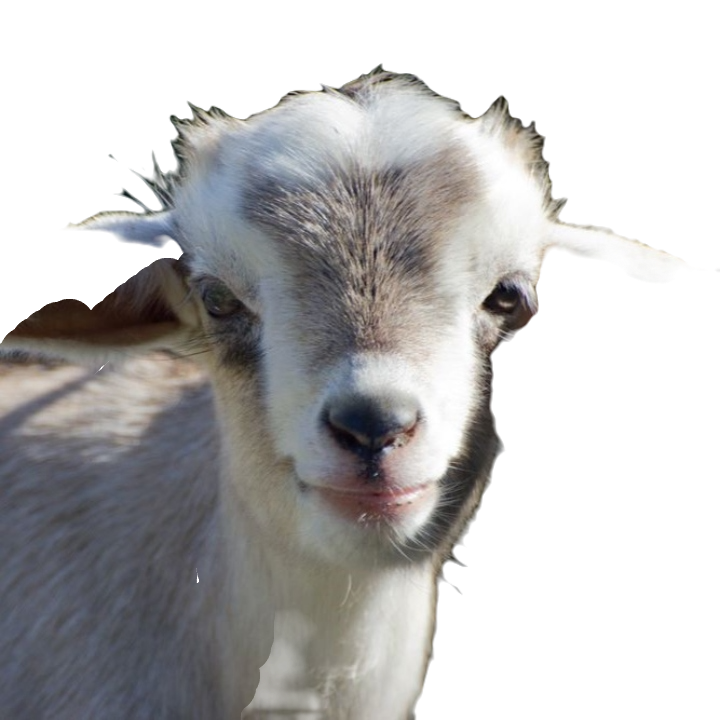Goat: (1, 52, 683, 719)
